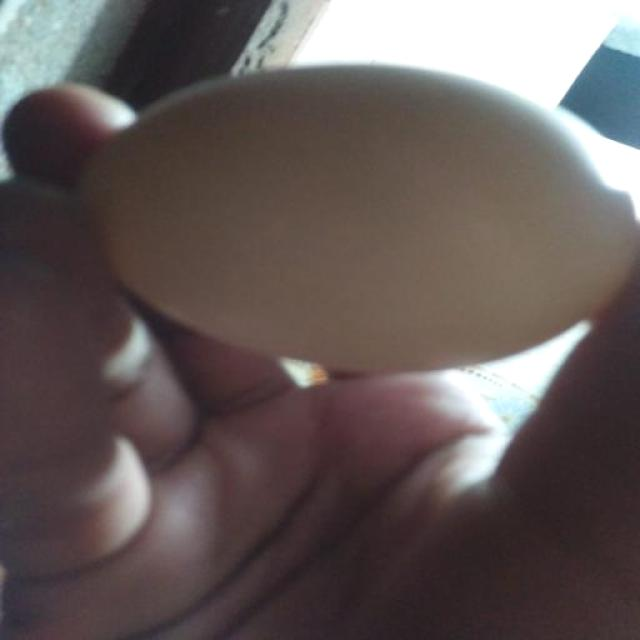telur: (72, 60, 640, 375)
